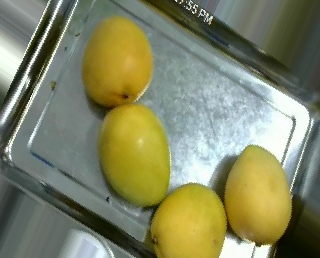Mango: (99, 105, 170, 203), (225, 145, 293, 242), (81, 17, 152, 105), (151, 181, 227, 258)
